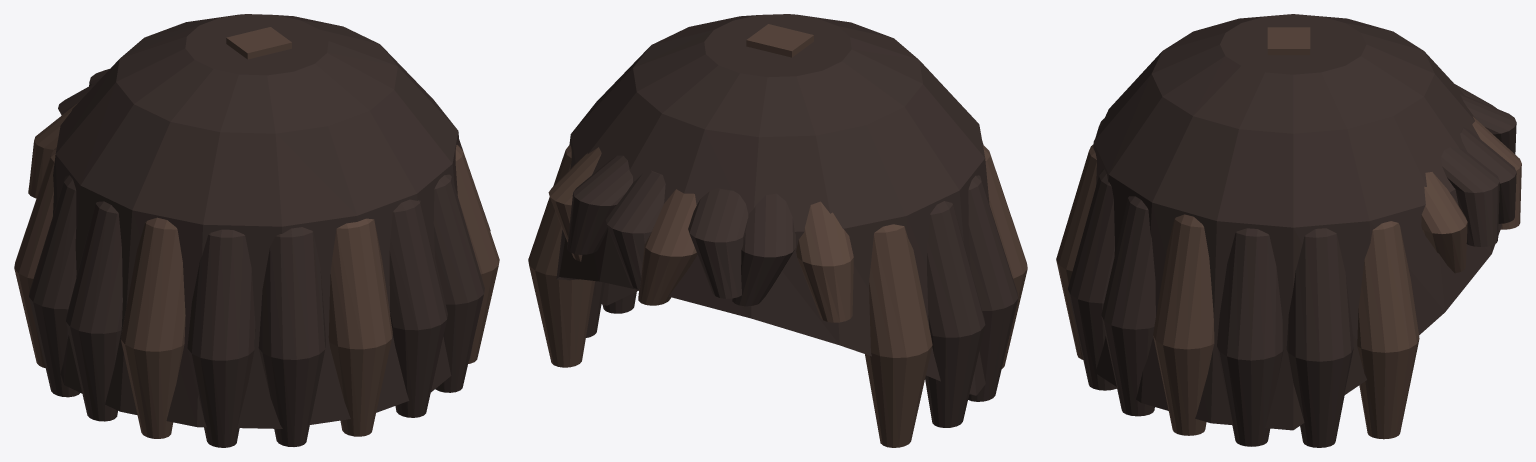
File: visual-far.glb
3 views of the same model, side by side, from view 1: azimuth 30°, elevation 25°; view 2: azimuth 150°, elevation 25°; view 3: azimuth 270°, elevation 25° (orthographic). The views are drawn at different scales.
Parts seen in each view (by area): view 1: 自然微卷短发母版; view 2: 自然微卷短发母版; view 3: 自然微卷短发母版.
Boxes of the visible parts, box(x1,y1,x2,y2) form: 自然微卷短发母版: box(14, 14, 499, 447); 自然微卷短发母版: box(528, 14, 1027, 447); 自然微卷短发母版: box(1056, 14, 1521, 447).
Bounding box in the file's own units: 0.2839 × 0.205 × 0.273.
Materials: 2 (2 with a texture image).
